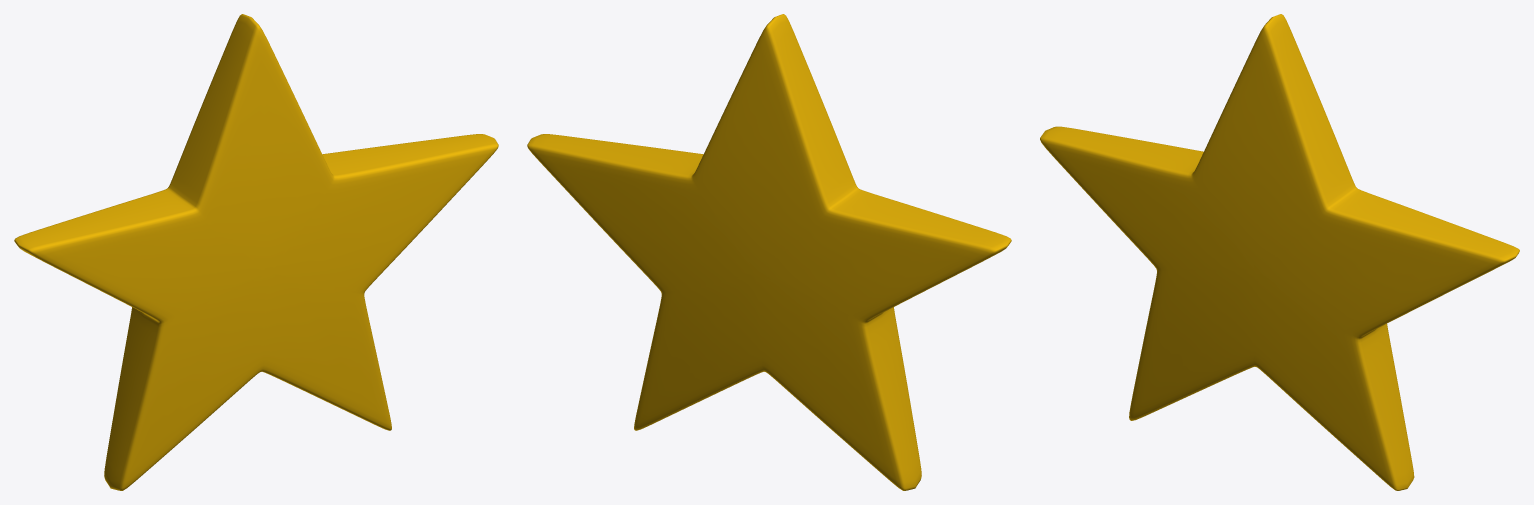
File: Star.fbx
3 renders of one model, left to right at view 1: azimuth 30°, elevation 25°; view 2: azimuth 150°, elevation 25°; view 3: azimuth 330°, elevation 25°, orthographic.
Parts seen in each view (by area): view 1: Star; view 2: Star; view 3: Star.
Part boxes in pixels (x1,y1,x2,y2): Star: (14, 14, 498, 490); Star: (527, 14, 1011, 490); Star: (1040, 14, 1519, 490).
Bounding box in the file's own units: 93.73 × 83.39 × 12.07.
